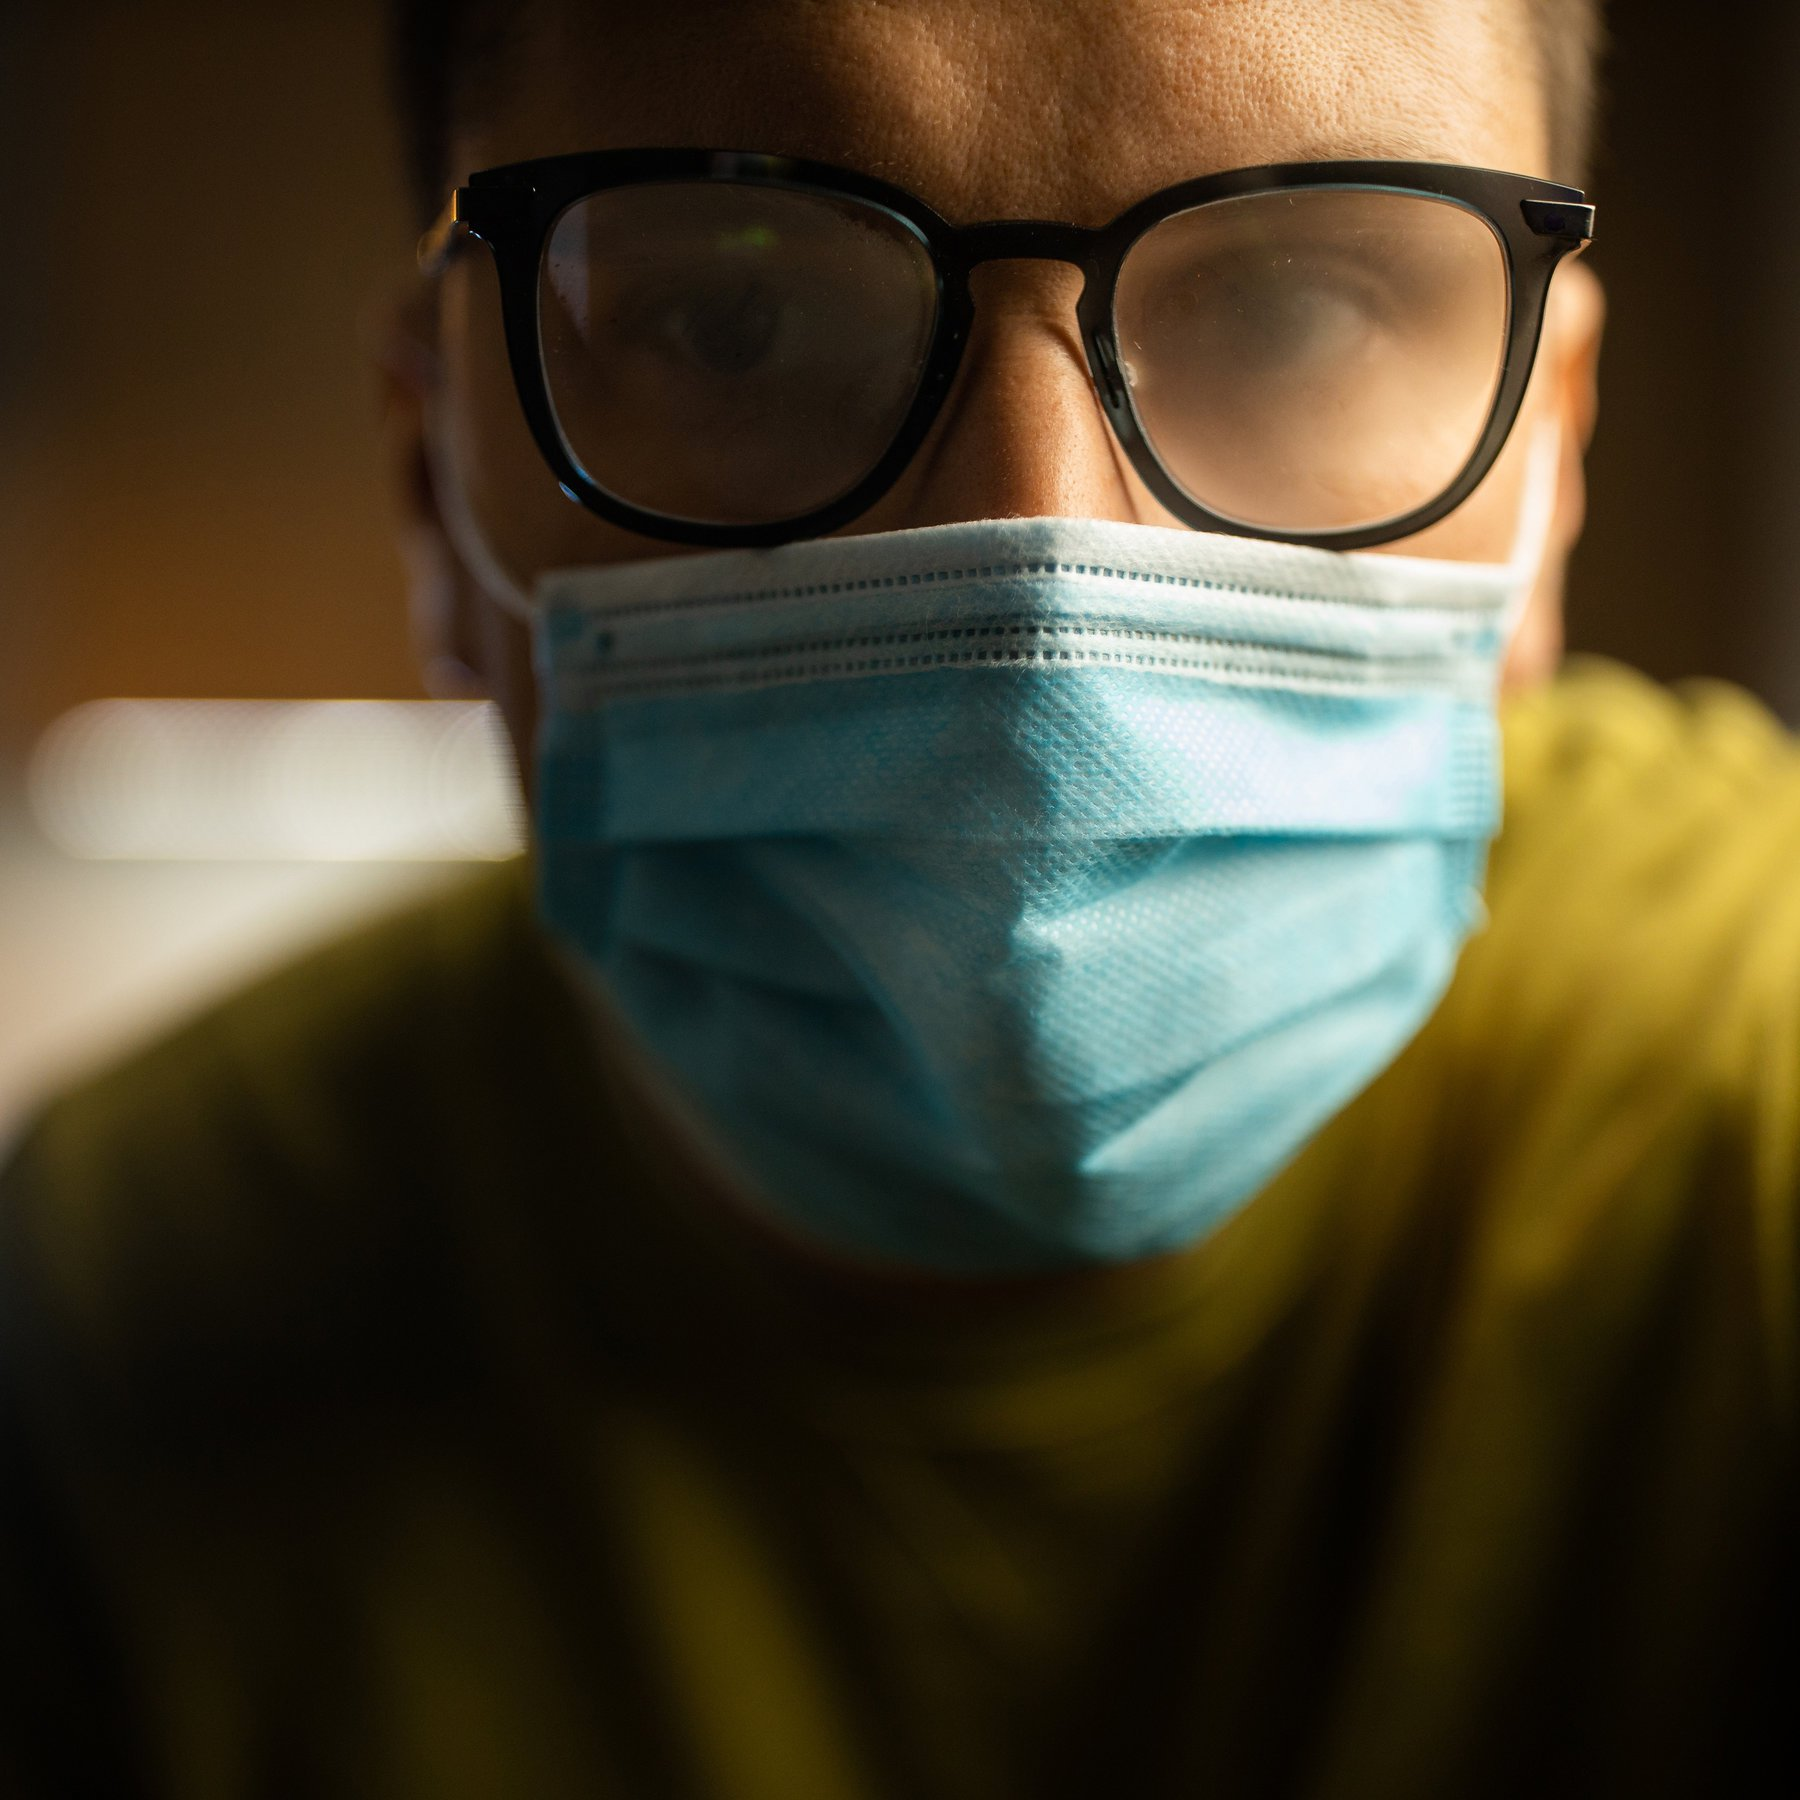mask: (330, 19, 1646, 1313)
